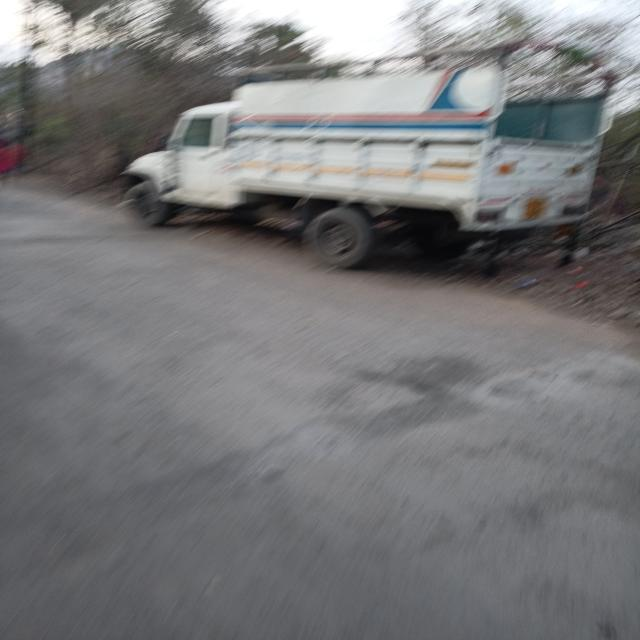Truck: (123, 66, 607, 268)
